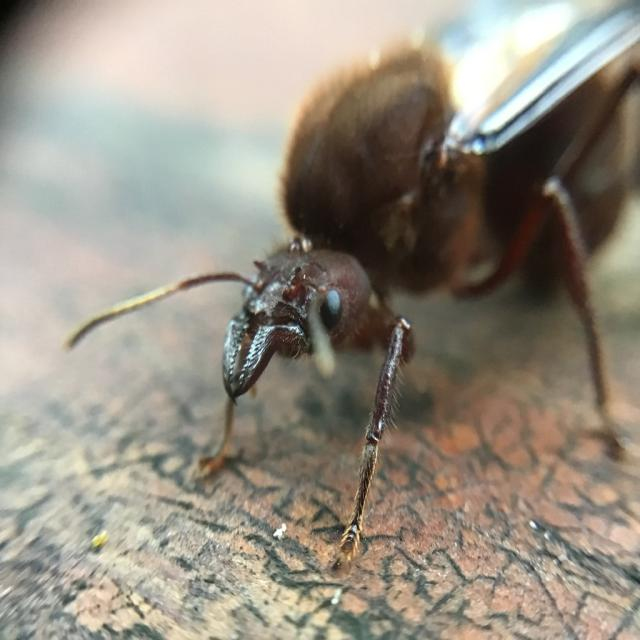Alive-Female-Alate: (64, 0, 640, 573)
